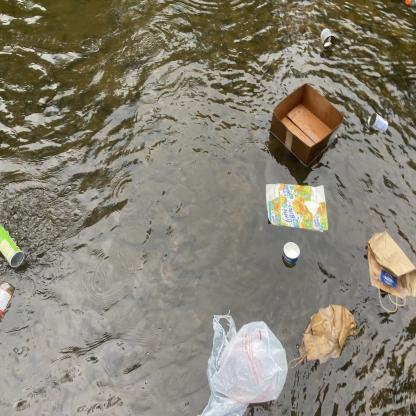trash: (194, 307, 292, 416), (266, 80, 348, 172), (287, 302, 360, 378), (362, 228, 416, 316), (262, 178, 330, 234), (0, 220, 27, 274), (0, 275, 18, 323), (280, 234, 304, 267), (316, 24, 342, 50), (366, 110, 390, 138), (402, 0, 416, 17)
